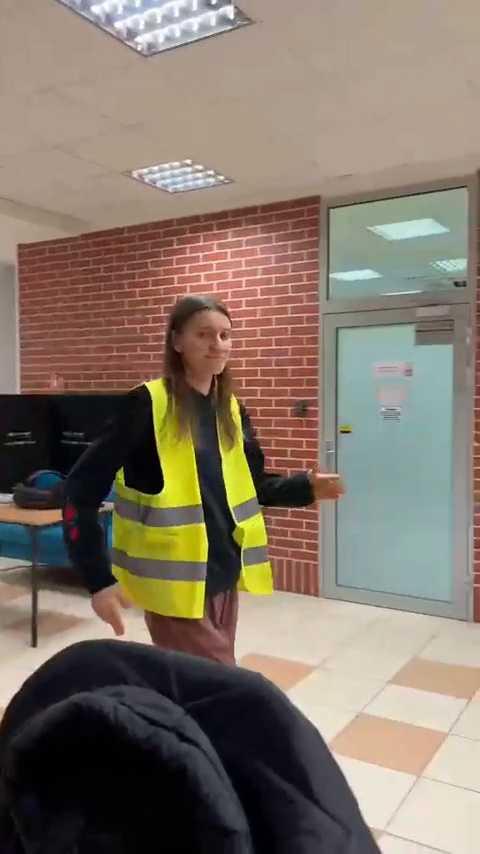vest: (65, 296, 339, 691)
